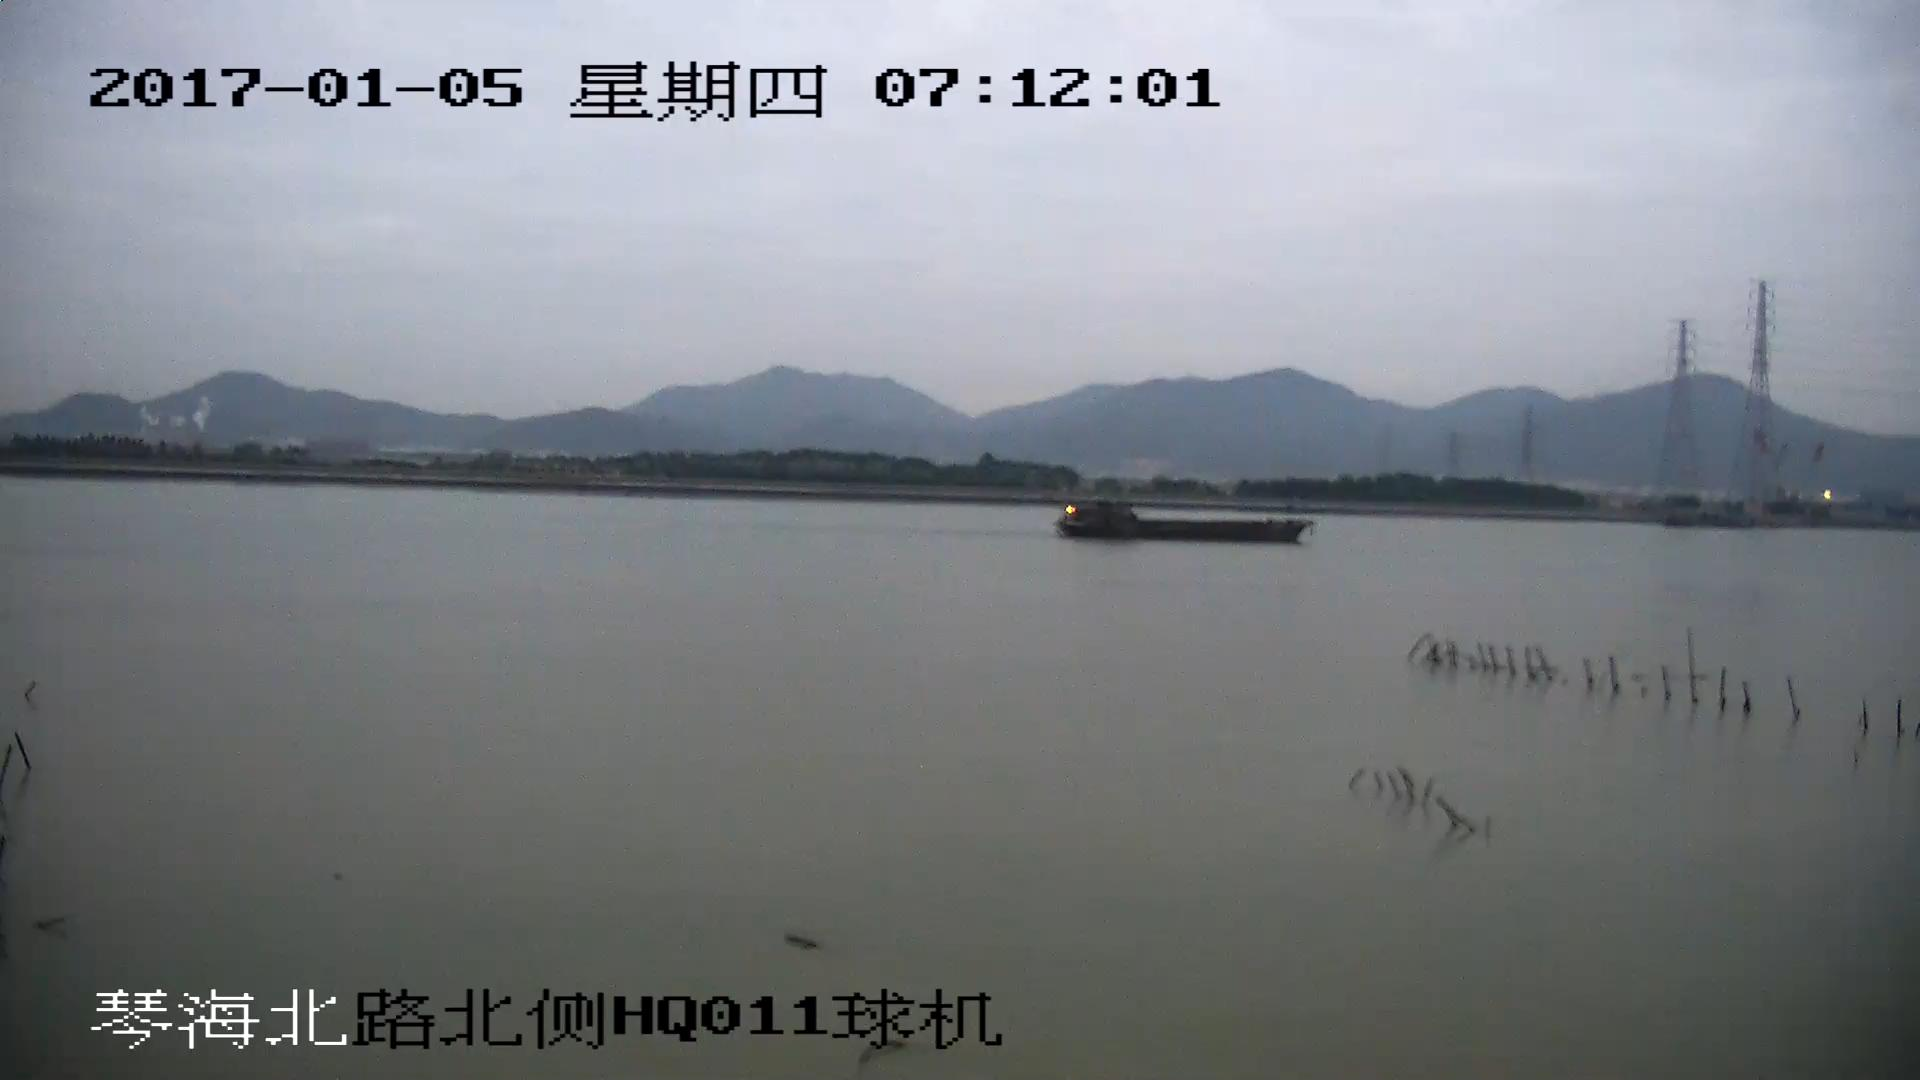bulk cargo carrier: (1054, 499, 1315, 545)
